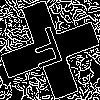F: (25, 25, 69, 79)
